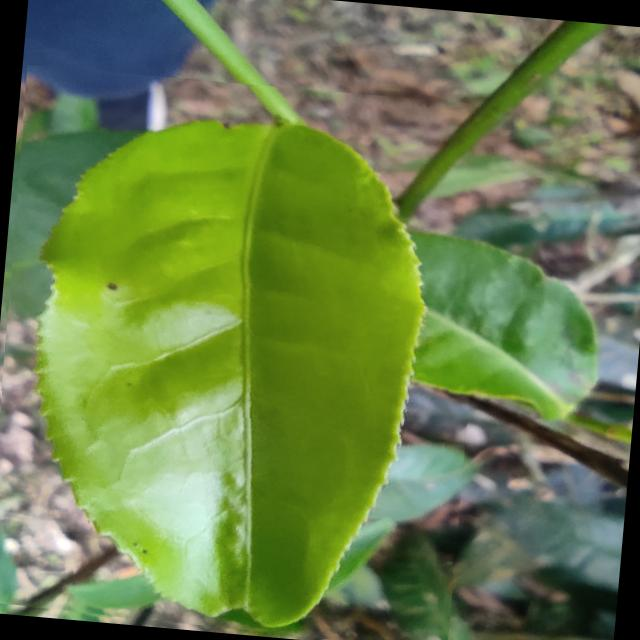Category C(4-7 days): (0, 64, 493, 640)
